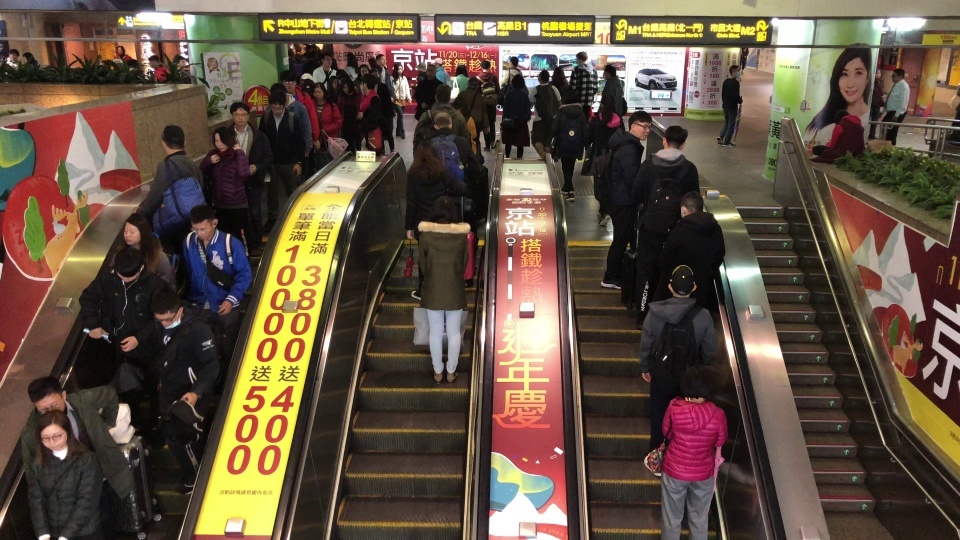person_head: (32, 415, 80, 461), (149, 284, 185, 332), (29, 370, 66, 416), (412, 138, 444, 177), (679, 361, 706, 402), (187, 204, 219, 238), (115, 247, 145, 281), (669, 262, 697, 296), (160, 125, 189, 154), (122, 215, 150, 245), (433, 194, 457, 226), (211, 126, 237, 154), (628, 111, 652, 140), (680, 190, 703, 220), (661, 126, 687, 152), (598, 94, 616, 125), (228, 99, 250, 124), (360, 71, 379, 93), (434, 111, 453, 130), (433, 83, 449, 105), (271, 97, 286, 118), (340, 77, 356, 96), (283, 70, 298, 90), (390, 61, 403, 82), (602, 65, 617, 82), (563, 87, 577, 105), (313, 82, 326, 101), (301, 71, 313, 91), (511, 74, 526, 90), (892, 68, 905, 86), (347, 53, 358, 73), (834, 109, 848, 124), (100, 56, 115, 69), (538, 68, 550, 84), (552, 67, 564, 83), (148, 54, 161, 68), (576, 51, 588, 66), (455, 64, 467, 78), (468, 76, 479, 91), (480, 59, 491, 73), (176, 54, 186, 69), (322, 53, 332, 68), (378, 52, 388, 67), (426, 62, 436, 77), (22, 53, 34, 65), (434, 56, 444, 70), (359, 62, 368, 77), (416, 60, 425, 75), (115, 44, 125, 57), (729, 65, 738, 79), (330, 76, 339, 90), (369, 55, 377, 70), (509, 56, 519, 68), (9, 48, 18, 60), (113, 58, 125, 67), (875, 67, 882, 81), (288, 47, 294, 56), (296, 46, 301, 56)
person_vbox: (22, 363, 139, 540), (639, 260, 717, 479), (140, 276, 216, 488), (631, 125, 702, 311), (657, 360, 729, 540), (78, 247, 154, 402), (7, 406, 92, 540), (417, 83, 480, 253), (418, 194, 471, 385), (597, 110, 652, 289), (130, 124, 205, 245), (171, 204, 253, 314), (405, 137, 468, 272), (661, 190, 726, 320), (431, 110, 476, 286), (227, 99, 273, 258), (200, 124, 249, 256), (101, 215, 175, 302), (586, 91, 622, 226), (270, 83, 316, 186), (259, 94, 301, 196), (554, 86, 587, 202), (569, 48, 598, 161), (281, 70, 319, 155), (452, 74, 486, 165), (532, 67, 562, 159), (501, 74, 533, 158), (313, 83, 343, 170), (826, 108, 868, 165), (882, 68, 913, 145), (357, 73, 386, 155), (715, 65, 741, 149), (478, 57, 499, 155), (414, 62, 443, 125), (389, 62, 411, 140), (601, 63, 623, 136), (339, 77, 358, 152), (869, 68, 882, 137), (499, 55, 524, 89), (313, 51, 335, 89), (451, 62, 469, 108), (379, 51, 394, 103), (551, 65, 572, 102), (148, 54, 171, 85), (951, 68, 960, 127), (172, 52, 189, 83), (412, 57, 424, 100), (328, 73, 343, 107), (368, 53, 380, 95), (435, 56, 450, 88), (113, 42, 131, 68), (357, 62, 370, 96), (20, 52, 40, 74), (5, 48, 23, 72), (342, 52, 358, 77), (738, 47, 749, 74), (295, 45, 303, 69), (302, 42, 311, 60), (286, 48, 293, 70), (313, 44, 320, 65)
